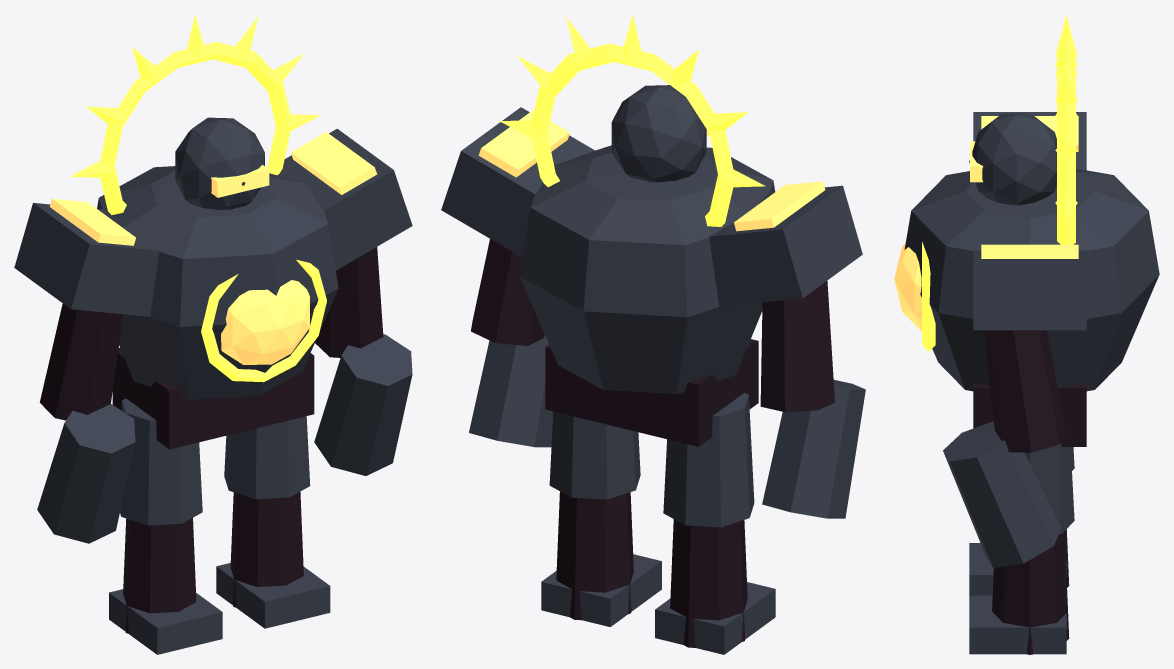
3 views of the same model, side by side, from view 1: azimuth 30°, elevation 25°; view 2: azimuth 150°, elevation 25°; view 3: azimuth 270°, elevation 25° (orthographic). The views are drawn at different scales.
Parts seen in each view (by area): view 1: SM_final_MAT_HullDark, SM_final_MAT_RockDark, SM_final_MAT_GlowOrange, SM_final_MAT_GlowGold; view 2: SM_final_MAT_HullDark, SM_final_MAT_RockDark, SM_final_MAT_GlowGold, SM_final_MAT_GlowOrange; view 3: SM_final_MAT_HullDark, SM_final_MAT_RockDark, SM_final_MAT_GlowGold, SM_final_MAT_GlowOrange.
Boxes of the visible parts, x1,y1,x2,y2 form: SM_final_MAT_HullDark: [14, 117, 412, 654]; SM_final_MAT_RockDark: [39, 247, 383, 633]; SM_final_MAT_GlowOrange: [50, 132, 377, 364]; SM_final_MAT_GlowGold: [69, 14, 326, 382]; SM_final_MAT_HullDark: [441, 85, 865, 654]; SM_final_MAT_RockDark: [471, 239, 834, 647]; SM_final_MAT_GlowGold: [500, 14, 765, 226]; SM_final_MAT_GlowOrange: [478, 110, 825, 231]; SM_final_MAT_HullDark: [904, 112, 1159, 654]; SM_final_MAT_RockDark: [973, 330, 1086, 654]; SM_final_MAT_GlowGold: [922, 14, 1077, 351]; SM_final_MAT_GlowOrange: [894, 116, 1078, 331].
Bounding box in the file's own units: 4.14 × 6.69 × 2.75.
